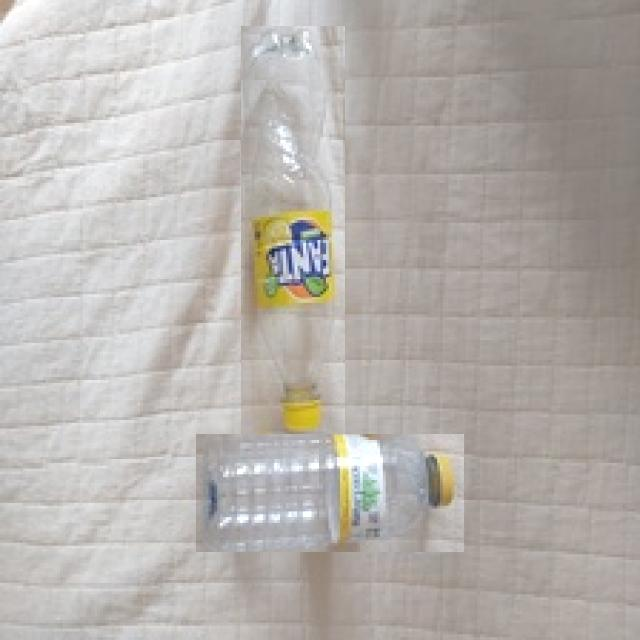bottle: (241, 26, 345, 434), (196, 434, 464, 552)
